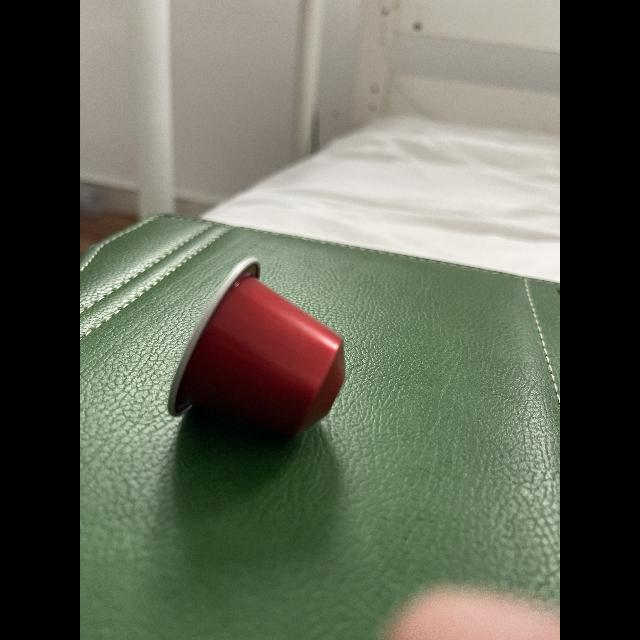intact_capsule: (148, 254, 352, 464)
